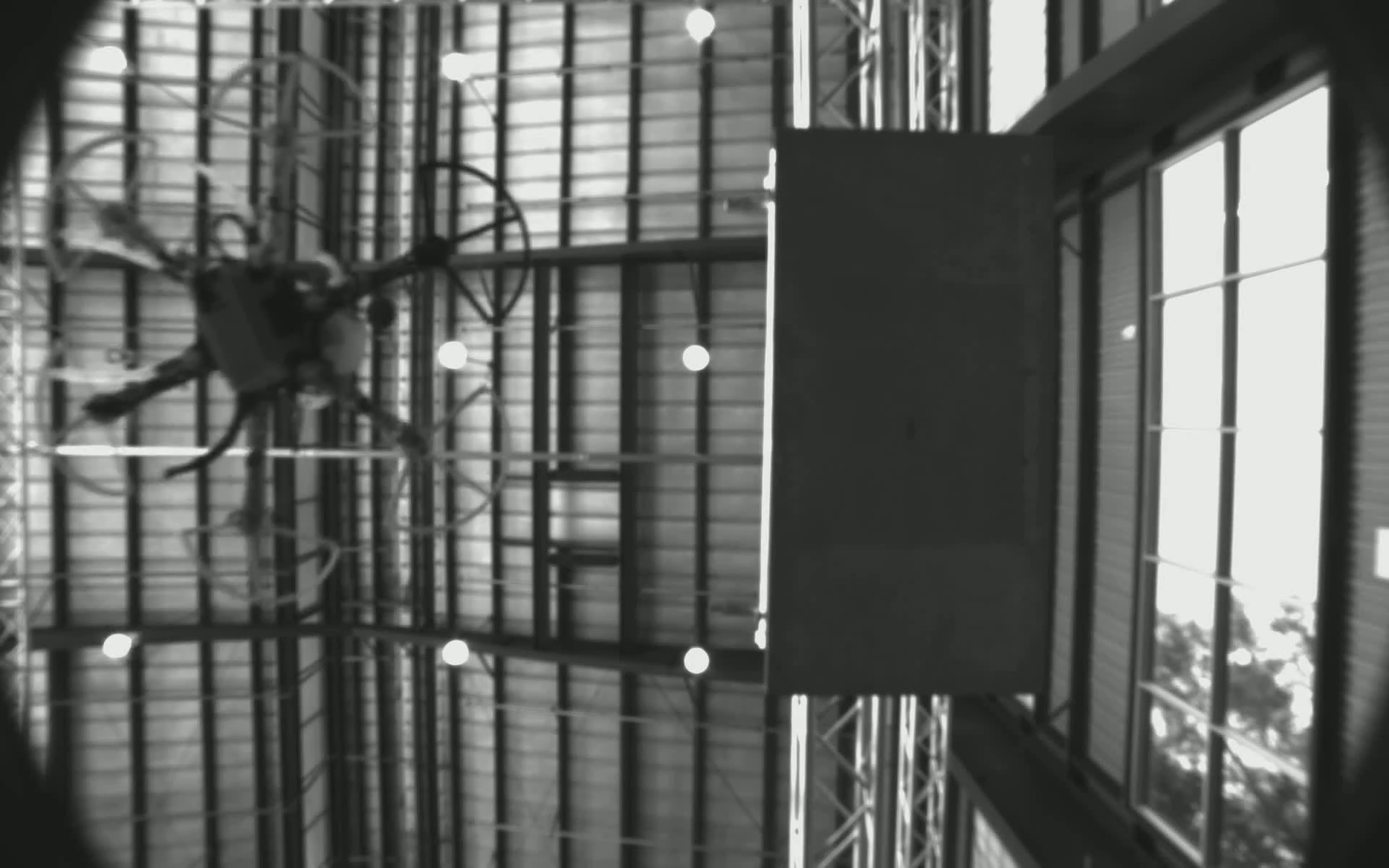drone: (10, 35, 537, 607)
